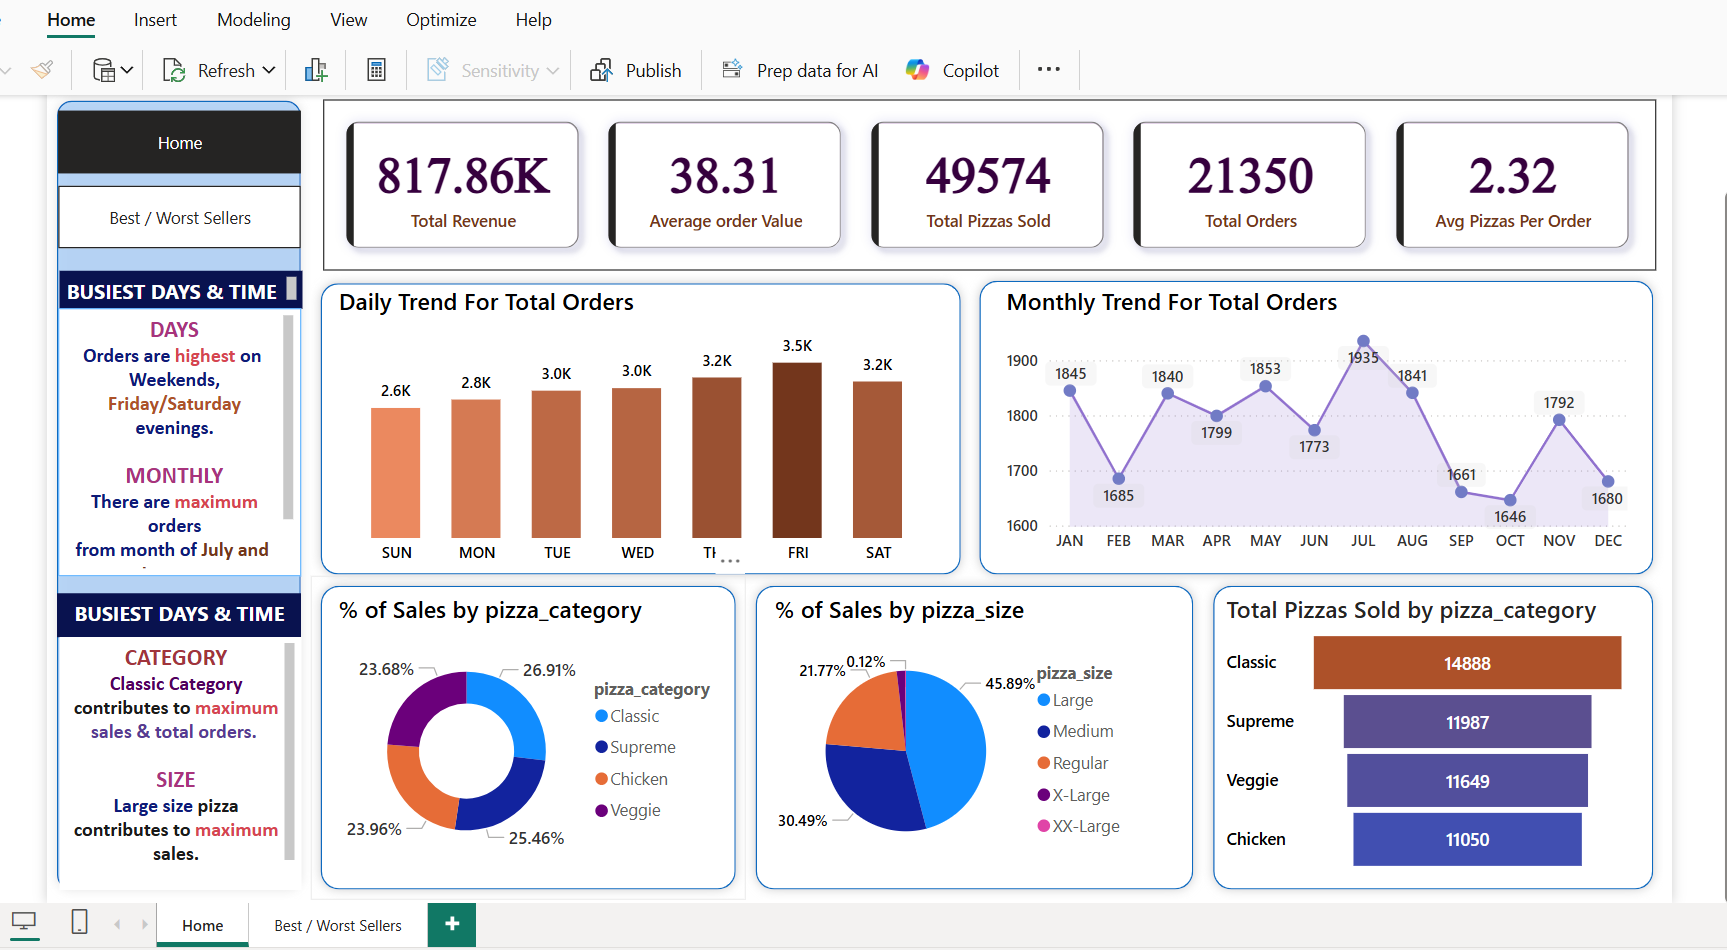

This screenshot's page, from the dashboard's own definition file:
{"tool":"powerbi","page":{"name":"Home","canvas":[1300,725],"ordinal":0},"visuals":[{"type":"shape","box":[0,75,211,647],"z":0},{"type":"cardVisual","fields":{"Data":["pizza_sales.Total Revenue","pizza_sales.Average order Value","pizza_sales.Total Pizzas Sold","pizza_sales.Total Orders","pizza_sales.Avg Pizzas Per Order"]},"box":[221,82,1066,137],"z":1000},{"type":"shape","box":[8,0,1279,77],"z":2000},{"type":"textbox","box":[358,9,540,41],"z":3000},{"type":"textbox","box":[495,43,257,63],"z":4000},{"type":"shape","box":[211,221,528,249],"z":5000},{"type":"columnChart","title":"Daily Trend For Total Orders","fields":{"Category":["pizza_sales.Order Day"],"Y":["pizza_sales.Total Orders"]},"box":[228,230,488,233],"z":6000},{"type":"shape","box":[738,219,555,251],"z":7000},{"type":"areaChart","title":"Monthly Trend For Total Orders","fields":{"Category":["pizza_sales.Order Month"],"Y":["pizza_sales.Total Orders"]},"box":[762,230,507,223],"z":8000},{"type":"shape","box":[211,463,348,259],"z":9000},{"type":"shape","box":[559,463,366,259],"z":10000},{"type":"shape","box":[925,463,368,259],"z":11000},{"type":"donutChart","title":"% of Sales by pizza_category","fields":{"Category":["pizza_sales.pizza_category"],"Y":["pizza_sales.Total Revenue"]},"box":[228,477,314,228],"z":12000},{"type":"pieChart","title":"% of Sales by pizza_size","fields":{"Category":["pizza_sales.pizza_size"],"Y":["pizza_sales.Total Revenue"]},"box":[577,477,299,228],"z":13000},{"type":"funnel","fields":{"Category":["pizza_sales.pizza_category"],"Y":["pizza_sales.Total Pizzas Sold"]},"box":[938,477,331,228],"z":14000},{"type":"textbox","box":[10,219,194,30],"z":15000},{"type":"textbox","box":[9,249,194,214],"z":16000},{"type":"textbox","box":[8,477,195,35],"z":17000},{"type":"textbox","box":[10,512,193,202],"z":18000},{"type":"slicer","fields":{"Values":["pizza_sales.pizza_category"]},"box":[789,12,246,61],"z":19000},{"type":"slicer","fields":{"Values":["pizza_sales.order_date"]},"box":[1050,12,219,70],"z":20000},{"type":"pageNavigator","box":[9,91,194,50],"z":21000},{"type":"pageNavigator","box":[9,151,194,50],"z":22000}]}

Visuals, with their boxes on the page's 1300x725 design canvas (x1, y1, x2, y2). These are canvas units, not pixel positions in the 1727x950 screenshot, which may show the page scaled, cropped or inside an application window:
shape: Rect(0, 75, 211, 722)
cardVisual - pizza_sales.Total Revenue x pizza_sales.Average order Value: Rect(221, 82, 1287, 219)
shape: Rect(8, 0, 1287, 77)
textbox: Rect(358, 9, 898, 50)
textbox: Rect(495, 43, 752, 106)
shape: Rect(211, 221, 739, 470)
"Daily Trend For Total Orders" columnChart: Rect(228, 230, 716, 463)
shape: Rect(738, 219, 1293, 470)
"Monthly Trend For Total Orders" areaChart: Rect(762, 230, 1269, 453)
shape: Rect(211, 463, 559, 722)
shape: Rect(559, 463, 925, 722)
shape: Rect(925, 463, 1293, 722)
"% of Sales by pizza_category" donutChart: Rect(228, 477, 542, 705)
"% of Sales by pizza_size" pieChart: Rect(577, 477, 876, 705)
funnel - pizza_sales.pizza_category x pizza_sales.Total Pizzas Sold: Rect(938, 477, 1269, 705)
textbox: Rect(10, 219, 204, 249)
textbox: Rect(9, 249, 203, 463)
textbox: Rect(8, 477, 203, 512)
textbox: Rect(10, 512, 203, 714)
slicer - pizza_sales.pizza_category: Rect(789, 12, 1035, 73)
slicer - pizza_sales.order_date: Rect(1050, 12, 1269, 82)
pageNavigator: Rect(9, 91, 203, 141)
pageNavigator: Rect(9, 151, 203, 201)
